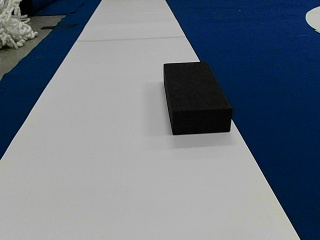block: (164, 62, 230, 134)
